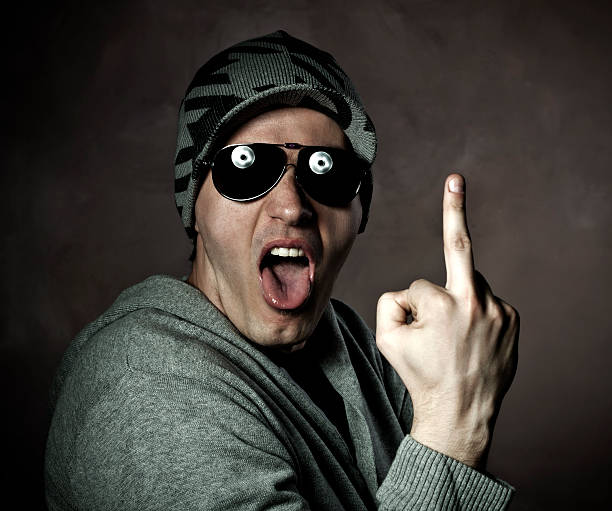insulting_gesture: (374, 175, 518, 428)
